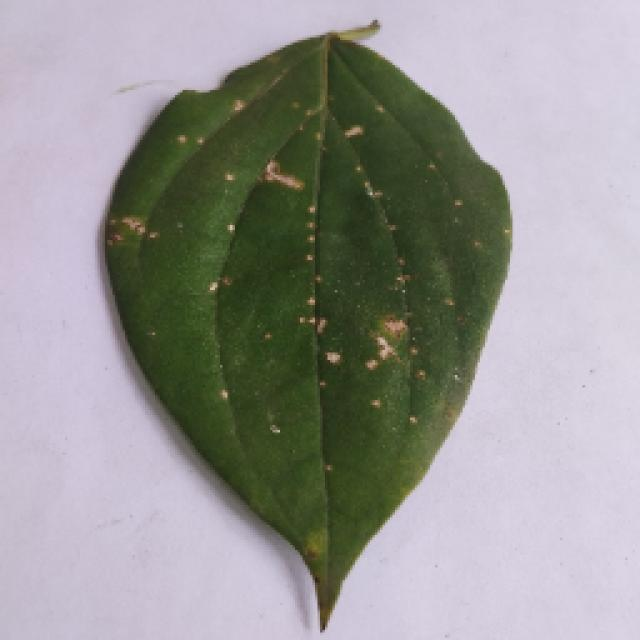pollu-disease: (60, 28, 562, 628)
